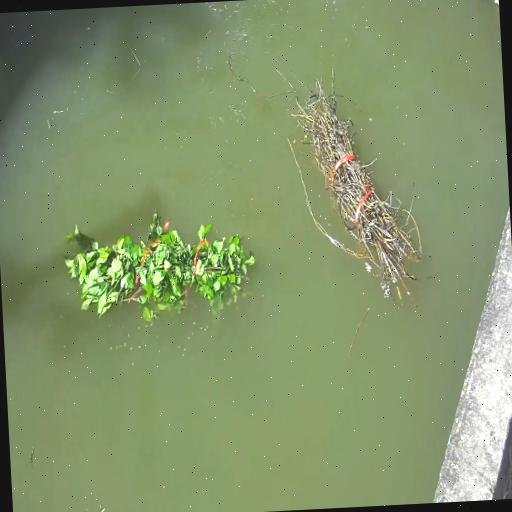twig: (294, 81, 422, 299), (65, 212, 255, 320)
